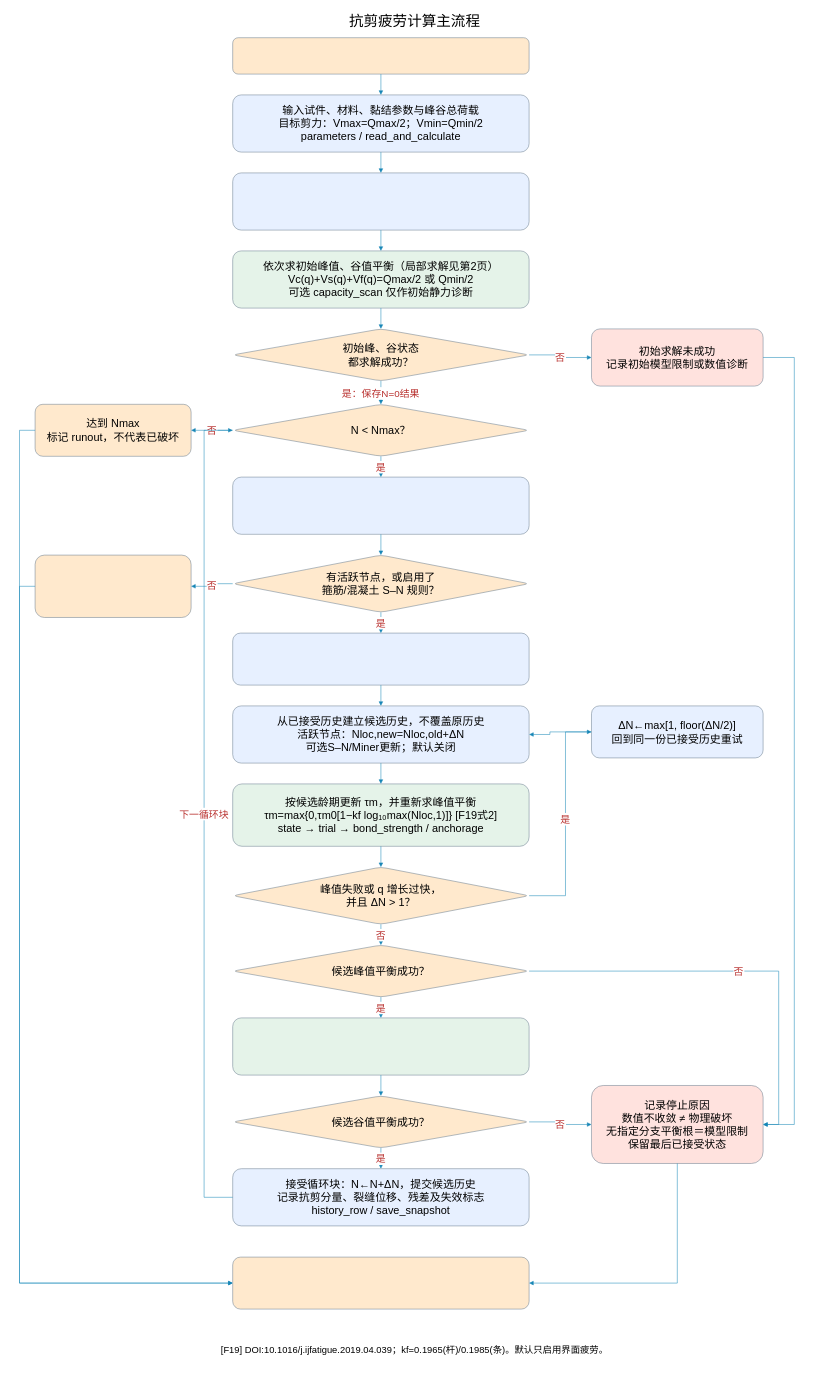
The diagram is 829 pixels wide and 1375 high, and some of its shapes have lost their labels. The centre of each missing label's shape, as x and y in pixels:
开始：定义一个抗剪疲劳算例: (x=380, y=55)
无可演化的退化项 沿快照记录至 Nmax 标记无活跃退化runout: (x=113, y=586)
由峰谷滑移确定疲劳活跃节点 曾激活或 smax>ηδm，且滑移差>容差（η默认0.75） active_nodes｜[F19：阈值；其余为实现规则]: (x=380, y=505)
结束并输出最后有效结果 export_results：曲线、局部场、MAT / CSV / PNG: (x=380, y=1283)
继承候选峰值的最大滑移历史，求谷值平衡 Vc(qmin)+Vs(qmin)+Vf(qmin)=Qmin/2 state（卸载）: (x=380, y=1046)
计算真实交点、两侧锚固长度与箍筋位置 初始化 N=0、最大滑移、局部龄期和失效记录 prepare_parameters / fatigue_calculate: (x=380, y=201)
选择循环块 ΔN 不超过cycleStep、剩余循环数与下一快照位置 fatigue_calculate: (x=380, y=659)
